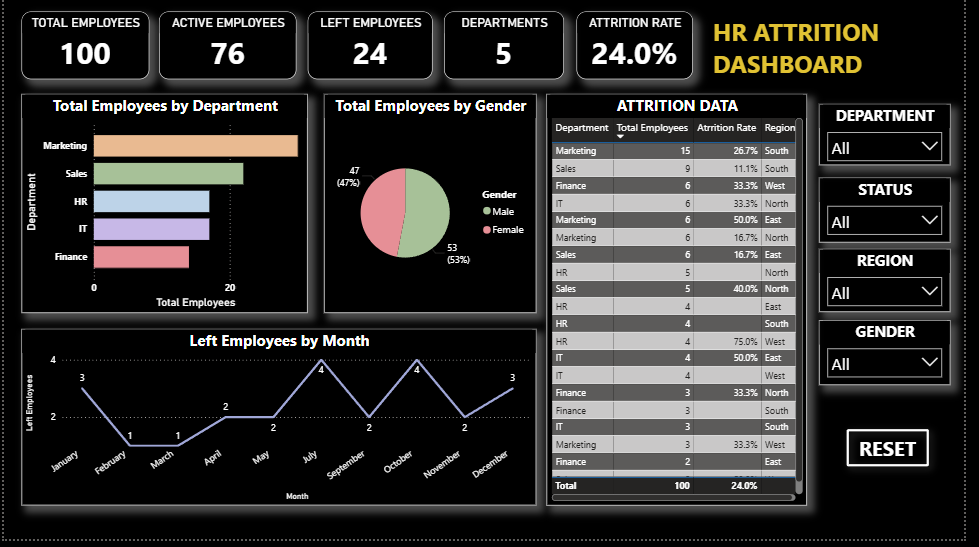

The dashboard page shown, as its layout file describes it:
{"tool":"powerbi","page":{"name":"Page 1","canvas":[1280,720],"ordinal":0},"visuals":[{"type":"card","title":"TOTAL EMPLOYEES","fields":{"Values":["HR.Total Employees"]},"box":[23.3,16.7,170,90],"z":0},{"type":"card","title":"ATTRITION RATE","fields":{"Values":["HR.Atrrition Rate"]},"box":[763.3,17,155,90],"z":1000},{"type":"card","title":"ACTIVE EMPLOYEES","fields":{"Values":["HR.Active Employees"]},"box":[206.7,17,183.3,90],"z":2000},{"type":"card","title":"LEFT EMPLOYEES","fields":{"Values":["HR.Left Employees"]},"box":[405,17,166.7,90],"z":3000},{"type":"card","title":"DEPARTMENTS","fields":{"Values":["Count(HR.Department)"]},"box":[586.7,17,160,90],"z":4000},{"type":"textbox","box":[940,16.2,292.5,100],"z":5000},{"type":"clusteredBarChart","fields":{"Category":["HR.Department"],"Y":["HR.Total Employees"]},"box":[23.3,126.7,381.7,291.7],"z":6000},{"type":"pieChart","title":"Total Employees by Gender","fields":{"Category":["HR.Gender"],"Y":["HR.Total Employees"]},"box":[426.7,126.7,283.3,291.7],"z":7000},{"type":"lineChart","fields":{"Category":["HR.JoinDate.Variation.Date Hierarchy.Month"],"Y":["HR.Left Employees"]},"box":[23.3,440,686.7,235],"z":8000},{"type":"slicer","title":"STATUS","fields":{"Values":["HR.Status"]},"box":[1086.2,237.5,175,86.2],"z":9000},{"type":"slicer","title":"REGION","fields":{"Values":["HR.Region"]},"box":[1086.2,333.8,175,83.8],"z":10000},{"type":"slicer","title":"DEPARTMENT","fields":{"Values":["HR.Department"]},"box":[1086.2,140,175,81.2],"z":11000},{"type":"slicer","title":"GENDER","fields":{"Values":["HR.Gender"]},"box":[1086.2,428.8,175,86.2],"z":12000},{"type":"tableEx","title":"ATTRITION DATA","fields":{"Values":["HR.Department","HR.Total Employees","HR.Atrrition Rate","HR.Region"]},"box":[723.8,126.2,347.5,548.8],"z":13000},{"type":"actionButton","title":"RESET","box":[1107.5,557.5,140,80],"z":13001}]}

Visuals, with their boxes in screenshot pixels (x1, y1, x2, y2), scaled from the page's 1280x720 canvas onto the 979x547 screenshot:
"TOTAL EMPLOYEES" card: {"x1": 18, "y1": 13, "x2": 148, "y2": 81}
"ATTRITION RATE" card: {"x1": 584, "y1": 13, "x2": 702, "y2": 81}
"ACTIVE EMPLOYEES" card: {"x1": 158, "y1": 13, "x2": 298, "y2": 81}
"LEFT EMPLOYEES" card: {"x1": 310, "y1": 13, "x2": 437, "y2": 81}
"DEPARTMENTS" card: {"x1": 449, "y1": 13, "x2": 571, "y2": 81}
textbox: {"x1": 719, "y1": 12, "x2": 943, "y2": 88}
clusteredBarChart - HR.Department x HR.Total Employees: {"x1": 18, "y1": 96, "x2": 310, "y2": 318}
"Total Employees by Gender" pieChart: {"x1": 326, "y1": 96, "x2": 543, "y2": 318}
lineChart - HR.JoinDate.Variation.Date Hierarchy.Month x HR.Left Employees: {"x1": 18, "y1": 334, "x2": 543, "y2": 513}
"STATUS" slicer: {"x1": 831, "y1": 180, "x2": 965, "y2": 246}
"REGION" slicer: {"x1": 831, "y1": 254, "x2": 965, "y2": 317}
"DEPARTMENT" slicer: {"x1": 831, "y1": 106, "x2": 965, "y2": 168}
"GENDER" slicer: {"x1": 831, "y1": 326, "x2": 965, "y2": 391}
"ATTRITION DATA" tableEx: {"x1": 554, "y1": 96, "x2": 819, "y2": 513}
"RESET" actionButton: {"x1": 847, "y1": 424, "x2": 954, "y2": 484}
